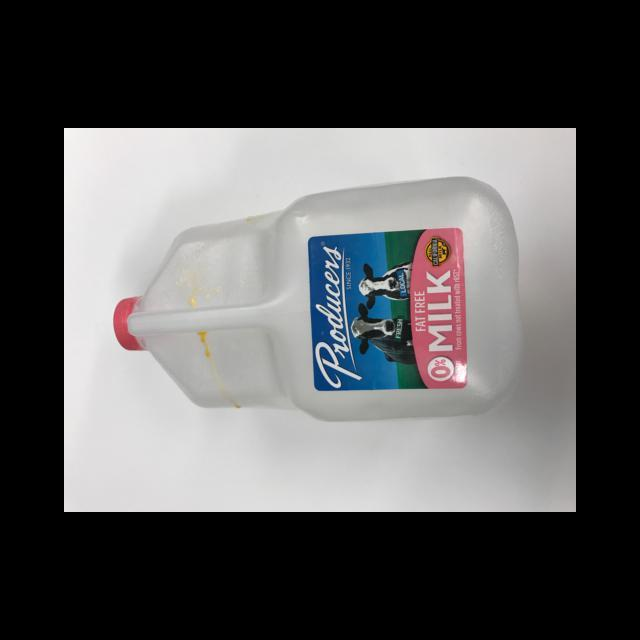plastic: (112, 175, 520, 422), (111, 296, 149, 350)
